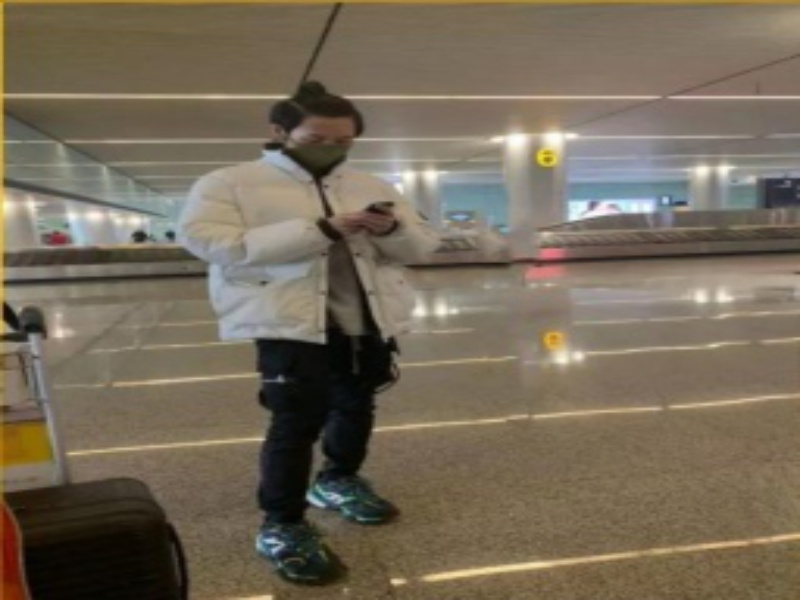ManaoArotava: (261, 73, 371, 182)
